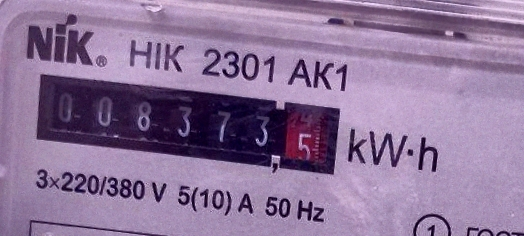0: (52, 87, 76, 125), (92, 91, 115, 129)
3: (248, 110, 274, 150), (170, 101, 196, 140)
4: (296, 108, 316, 130)
5: (293, 129, 315, 161)
7: (210, 105, 233, 145)
8: (131, 96, 156, 134)
screen: (25, 64, 350, 188)
